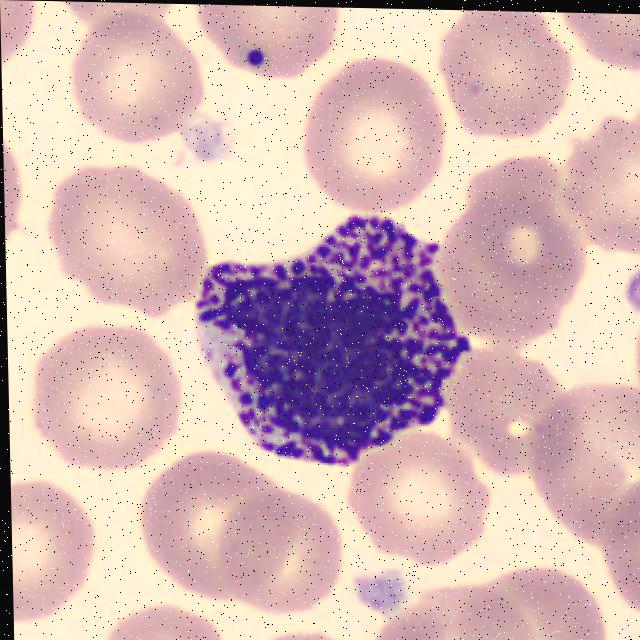basophil: (192, 212, 464, 457)
platelets: (177, 108, 245, 169), (354, 566, 410, 620), (617, 259, 640, 325)
rbc: (46, 162, 214, 323), (23, 321, 184, 474), (434, 194, 587, 352), (299, 54, 448, 214), (139, 446, 294, 597), (422, 9, 581, 147), (446, 337, 586, 490), (346, 434, 494, 557), (74, 13, 207, 145), (539, 377, 640, 546), (223, 484, 342, 609), (10, 463, 97, 625), (192, 5, 346, 80), (459, 564, 609, 640), (566, 106, 640, 257), (374, 586, 539, 640), (457, 149, 569, 219), (548, 12, 640, 85), (100, 595, 238, 640), (599, 471, 640, 621), (49, 1, 178, 41), (2, 108, 34, 267), (0, 0, 53, 83), (238, 624, 370, 640), (616, 306, 640, 384), (626, 631, 640, 640)
